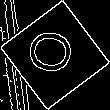O_E: (27, 30, 83, 80)
